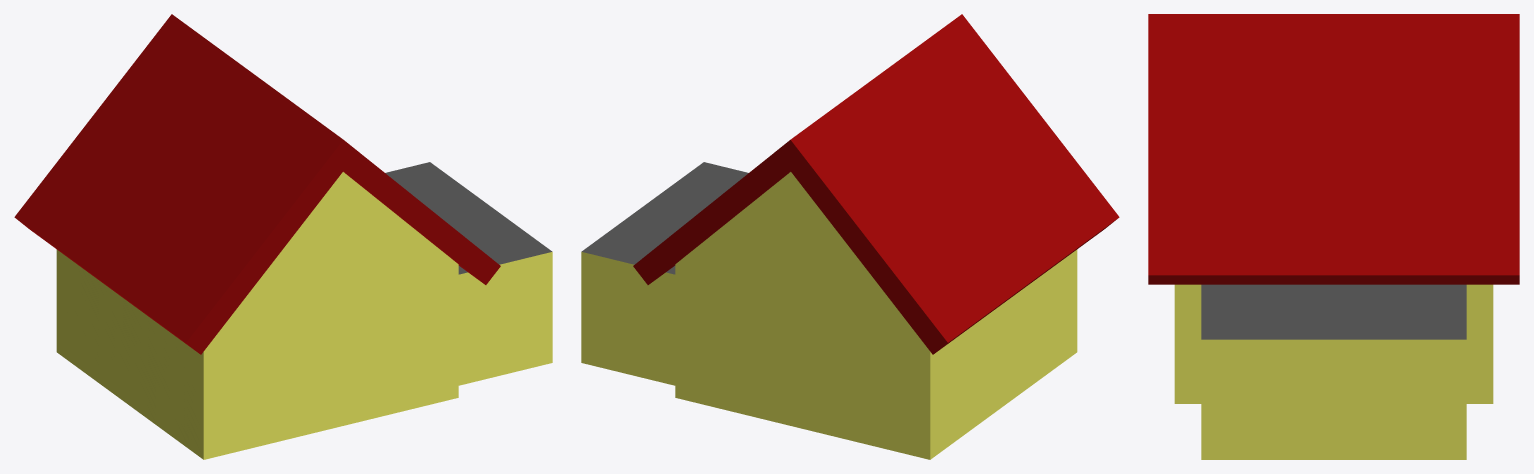
File: huisje_optie.gltf
The picture shows the model from 3 angles, left to right: view 1: azimuth 30°, elevation 25°; view 2: azimuth 150°, elevation 25°; view 3: azimuth 270°, elevation 25°; orthographic projection. The views are drawn at different scales.
Visible parts, largest first — view 1: root; view 2: root; view 3: root.
Part boxes in pixels (<box>): root: <box>14,14,552,459</box>; root: <box>581,14,1119,459</box>; root: <box>1148,14,1519,459</box>.
Bounding box in the file's own units: 9.21 × 6.71 × 7.
